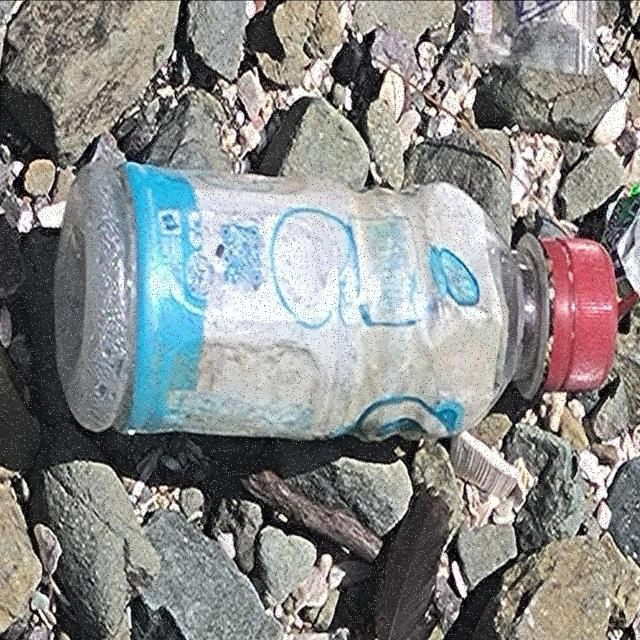plastic_waste: (54, 164, 618, 440)
